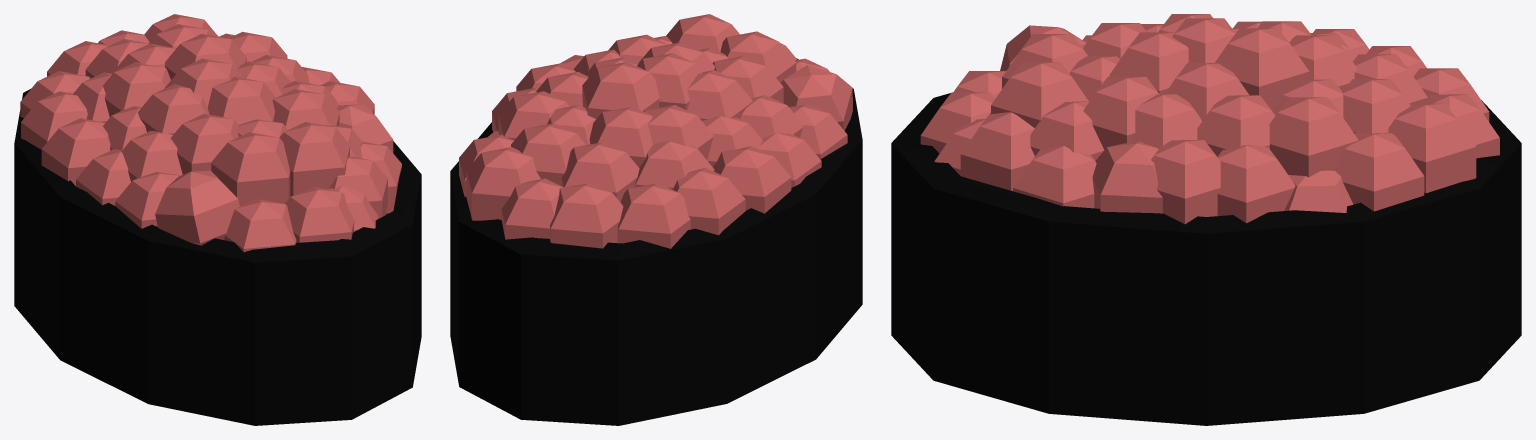
The model's file is salmonRoe.fbx.
3 views of the same model, side by side, from view 1: azimuth 30°, elevation 25°; view 2: azimuth 150°, elevation 25°; view 3: azimuth 270°, elevation 25° (orthographic). The views are drawn at different scales.
Visible parts, largest first — view 1: group27_pasted__group15_pasted__pasted__group14_pasted__past; view 2: group27_pasted__group15_pasted__pasted__group14_pasted__past; view 3: group27_pasted__group15_pasted__pasted__group14_pasted__past.
Part boxes in pixels (x1,y1,x2,y2): group27_pasted__group15_pasted__pasted__group14_pasted__past: (14,14,421,425); group27_pasted__group15_pasted__pasted__group14_pasted__past: (450,14,862,425); group27_pasted__group15_pasted__pasted__group14_pasted__past: (891,14,1521,425).
Size of the model in its own units: 2.33 by 1.92 by 3.42.
